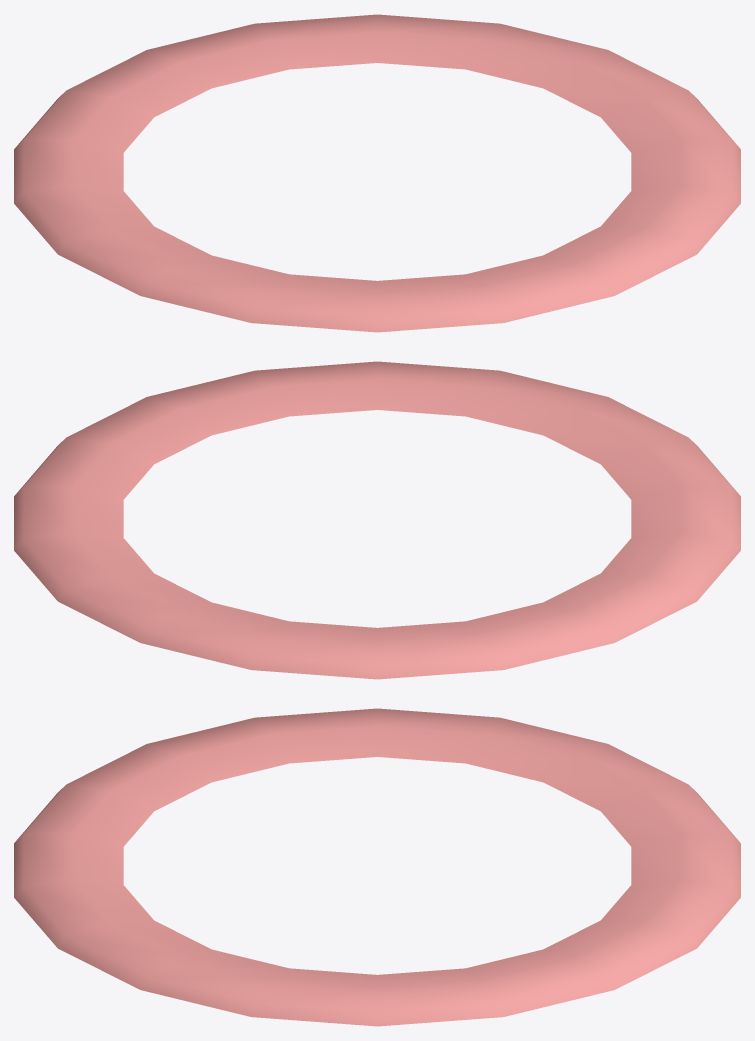
The model's file is hole_mine_halo.glb.
The picture shows the model from 3 angles, top to bottom: view 1: azimuth 30°, elevation 25°; view 2: azimuth 150°, elevation 25°; view 3: azimuth 270°, elevation 25°; orthographic projection.
Visible parts, largest first — view 1: hole_mine_halo; view 2: hole_mine_halo; view 3: hole_mine_halo.
Part boxes in pixels (left/top/right/bottom): hole_mine_halo: left=14, top=14, right=740, bottom=332; hole_mine_halo: left=14, top=361, right=740, bottom=679; hole_mine_halo: left=14, top=708, right=740, bottom=1026.
Bounding box in the file's own units: 2.92 × 0.06 × 2.88.
